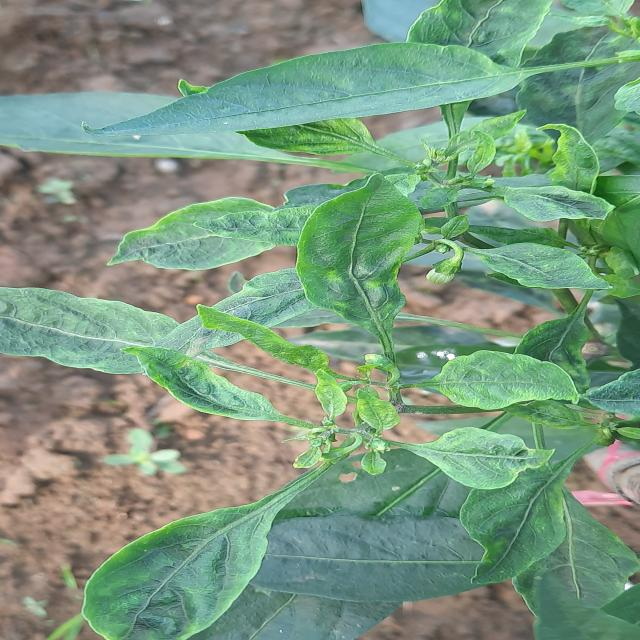thrips: (71, 486, 327, 640), (296, 171, 452, 370), (427, 349, 617, 430), (120, 354, 290, 438), (384, 426, 560, 488)
